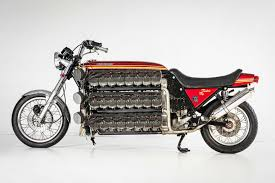motorcycle: (9, 40, 262, 154)
